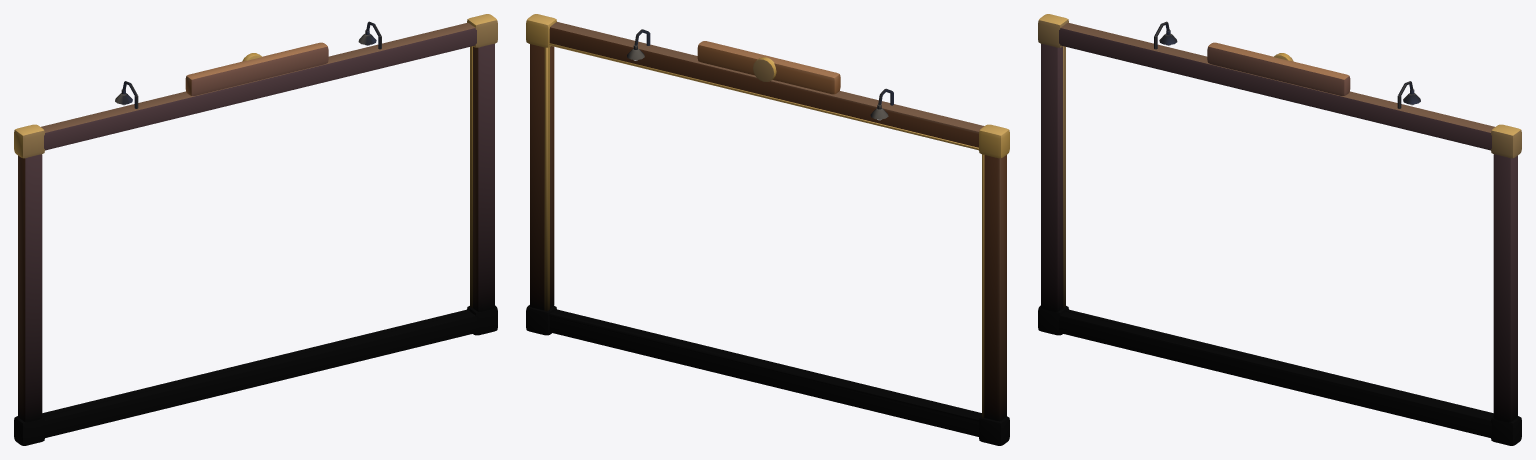
The model's file is LobbyBoardW.fbx.
The picture shows the model from 3 angles, left to right: view 1: azimuth 30°, elevation 25°; view 2: azimuth 150°, elevation 25°; view 3: azimuth 330°, elevation 25°; orthographic projection.
Visible parts, largest first — view 1: SM_Prop_LobbyBoardW_Frame; view 2: SM_Prop_LobbyBoardW_Frame; view 3: SM_Prop_LobbyBoardW_Frame.
Part boxes in pixels (bbox=[...]): SM_Prop_LobbyBoardW_Frame: bbox=[14, 14, 497, 445]; SM_Prop_LobbyBoardW_Frame: bbox=[526, 14, 1009, 445]; SM_Prop_LobbyBoardW_Frame: bbox=[1038, 14, 1521, 445].
Size of the model in its own units: 24.1 by 15.95 by 1.73.
